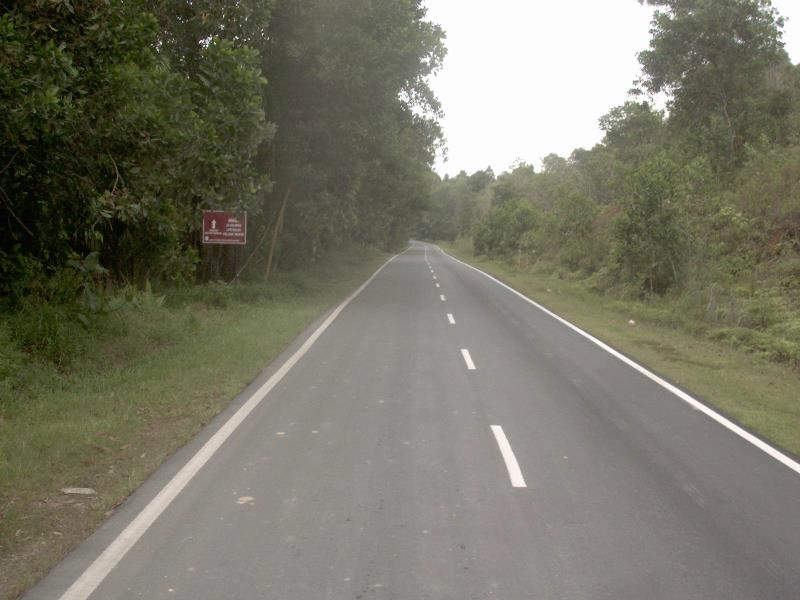ads_sign: (192, 202, 255, 250)
